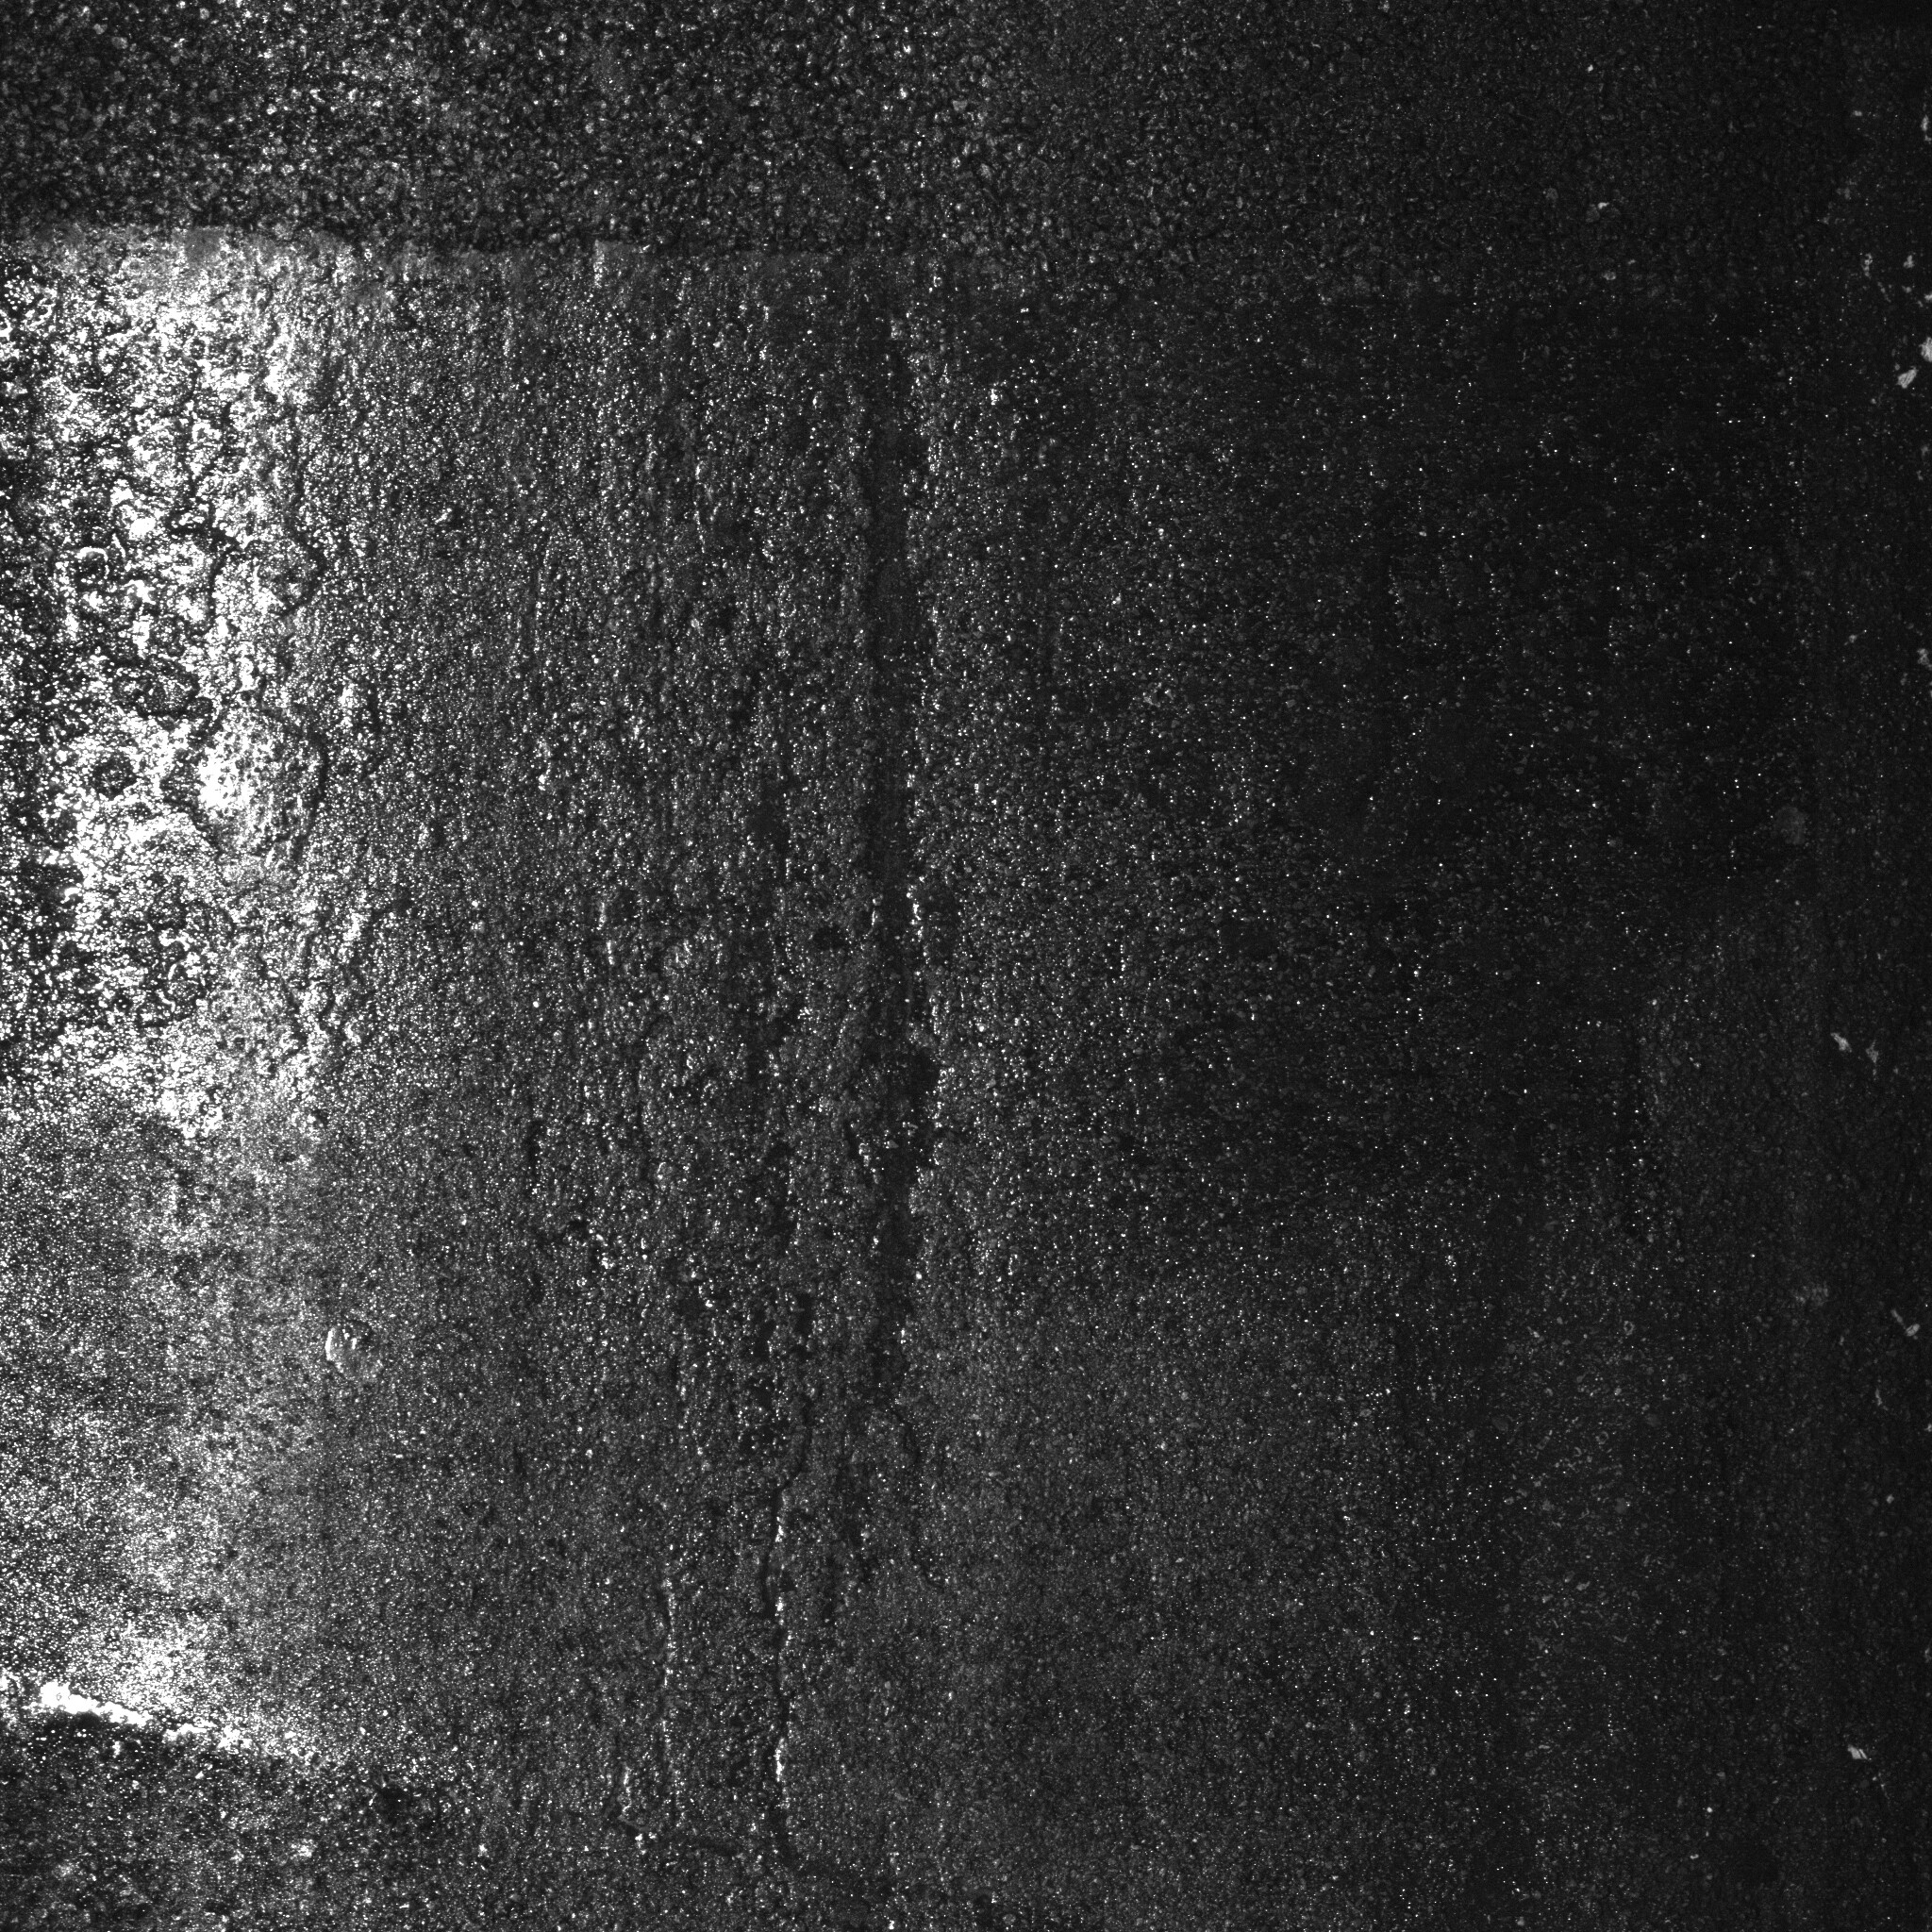alligator: (324, 60, 1741, 1805)
